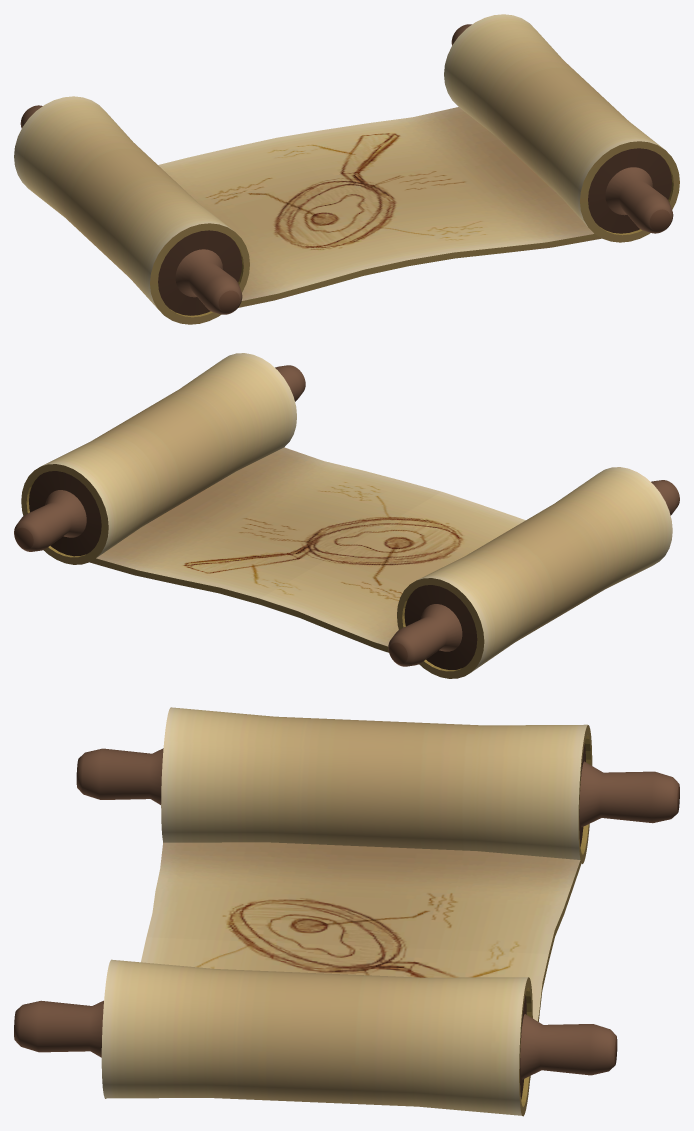
Rendered from Scroll_Unfurled.fbx.
3 renders of one model, top to bottom at view 1: azimuth 30°, elevation 25°; view 2: azimuth 150°, elevation 25°; view 3: azimuth 270°, elevation 25°, orthographic. The views are drawn at different scales.
Parts seen in each view (by area): view 1: Scroll_Unfurled; view 2: Scroll_Unfurled; view 3: Scroll_Unfurled.
Part boxes in pixels (x1,y1,x2,y2): Scroll_Unfurled: (14,14,679,324); Scroll_Unfurled: (14,353,679,678); Scroll_Unfurled: (14,707,679,1116).
Size of the model in its own units: 1.71 by 0.3067 by 1.46.
Materials: 1 (1 with a texture image).
